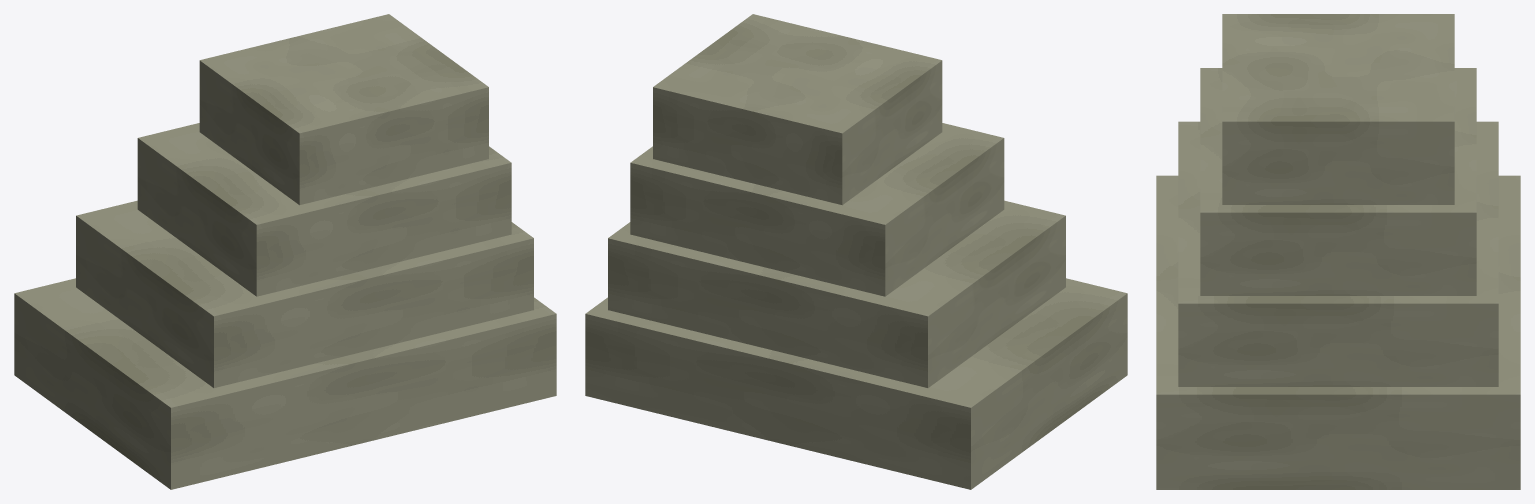
File: pedra-estratos-v02.gltf
The picture shows the model from 3 angles, left to right: view 1: azimuth 30°, elevation 25°; view 2: azimuth 150°, elevation 25°; view 3: azimuth 270°, elevation 25°; orthographic projection. The views are drawn at different scales.
Parts seen in each view (by area): view 1: forma; view 2: forma; view 3: forma.
Part boxes in pixels (<box>): forma: <box>14,14,556,489</box>; forma: <box>585,14,1127,489</box>; forma: <box>1156,14,1520,489</box>.
Size of the model in its own units: 1.18 by 0.87 by 0.83.
1 material, 1 textured.
